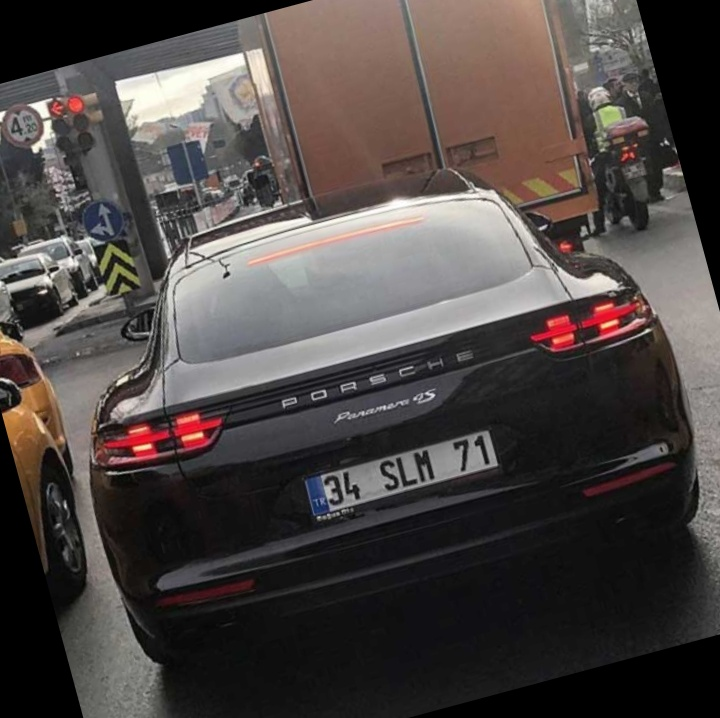plaka: (315, 431, 498, 508)
